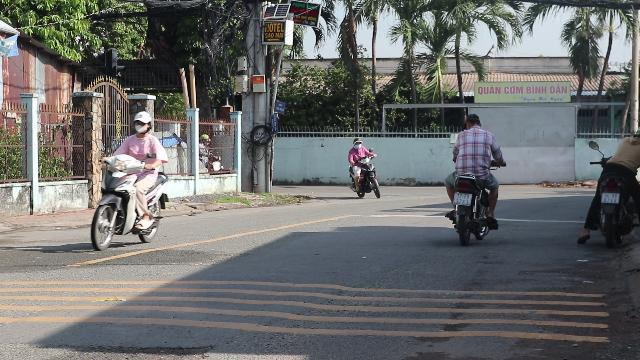helmet: (131, 110, 153, 136)
licenseplate: (452, 192, 472, 206), (601, 193, 619, 203)
motorcyclist: (88, 110, 170, 252), (442, 112, 502, 244), (580, 129, 640, 246)
nohelmet: (463, 113, 481, 131)
